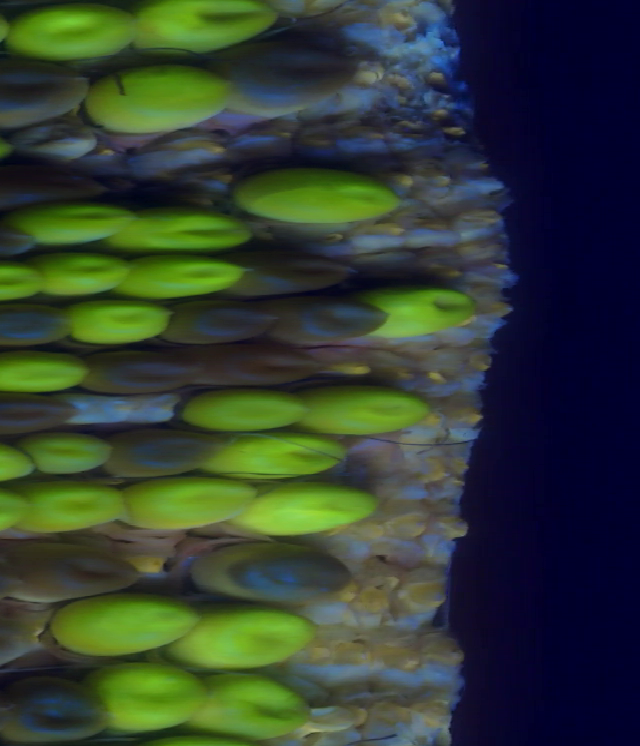fluorescent: (235, 159, 404, 236), (82, 60, 225, 136), (46, 586, 197, 653), (129, 1, 279, 60), (186, 605, 320, 669), (7, 1, 137, 65), (246, 479, 375, 542), (304, 386, 435, 442), (203, 674, 310, 738), (122, 204, 251, 256), (100, 665, 193, 736), (379, 281, 476, 348), (125, 250, 249, 301), (125, 480, 244, 532), (175, 387, 301, 435), (210, 436, 341, 479), (18, 486, 129, 534), (0, 348, 98, 397), (18, 426, 117, 474), (75, 300, 176, 345), (41, 253, 124, 304), (18, 203, 124, 242), (0, 253, 45, 308), (0, 438, 32, 490)
nonfluorescent: (183, 535, 363, 604), (228, 35, 353, 119), (12, 536, 153, 598), (2, 667, 114, 739), (112, 424, 221, 483), (0, 55, 78, 131), (192, 346, 315, 393), (283, 294, 392, 346), (0, 155, 109, 205), (239, 252, 360, 297), (87, 349, 191, 393), (173, 301, 270, 339), (0, 401, 83, 445), (0, 611, 39, 669), (0, 217, 36, 257)
